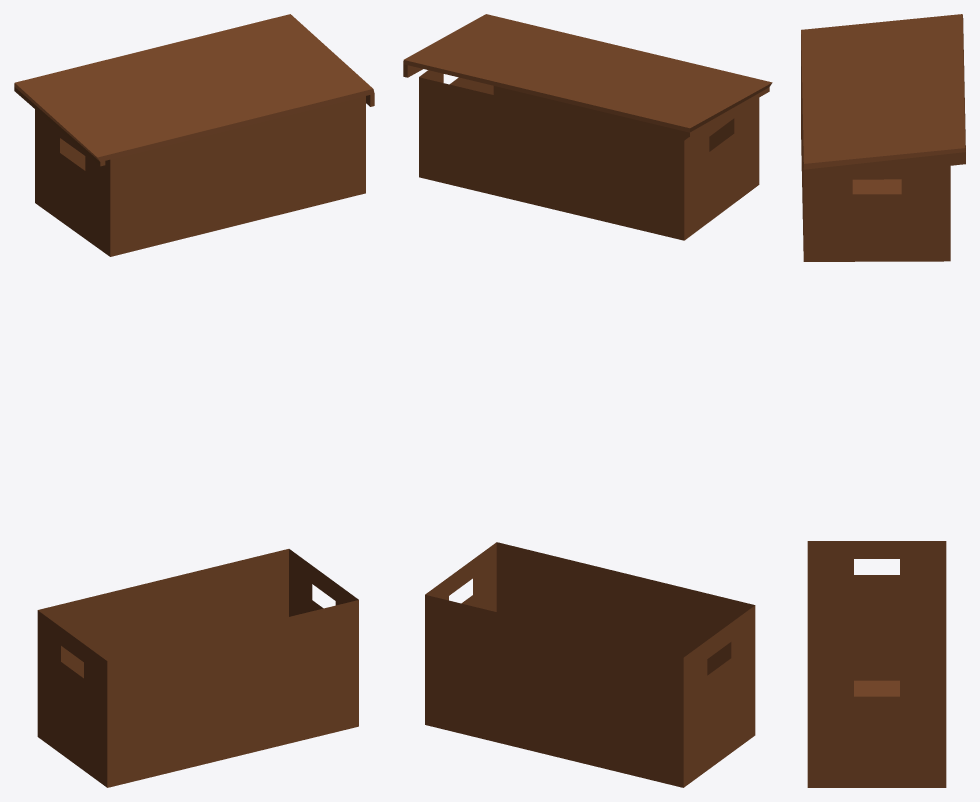
The model's file is ShoeBoxStack.gltf.
3 views of the same model, side by side, from view 1: azimuth 30°, elevation 25°; view 2: azimuth 150°, elevation 25°; view 3: azimuth 270°, elevation 25° (orthographic). The views are drawn at different scales.
Visible parts, largest first — view 1: shoe box.001, Cube.005; view 2: Cube.005, shoe box.001; view 3: shoe box.001, Cube.005.
Part boxes in pixels (x1,y1,x2,y2): shoe box.001: [14, 14, 374, 256]; Cube.005: [37, 549, 358, 787]; Cube.005: [425, 542, 755, 787]; shoe box.001: [403, 14, 772, 240]; shoe box.001: [801, 14, 965, 261]; Cube.005: [807, 541, 946, 787].
Bounding box in the file's own units: 4.62 × 10.28 × 2.38.
